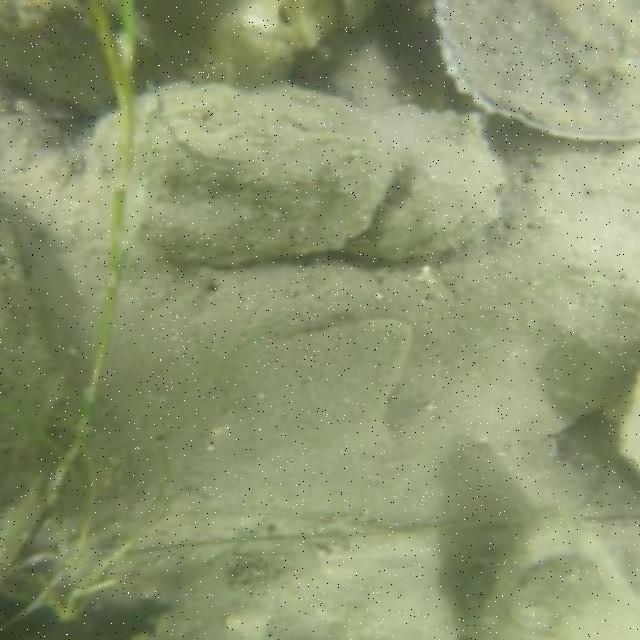Oyster-Closed: (134, 82, 386, 266), (151, 528, 444, 640), (1, 212, 73, 555), (354, 112, 503, 261), (473, 522, 640, 640), (1, 0, 114, 112)
